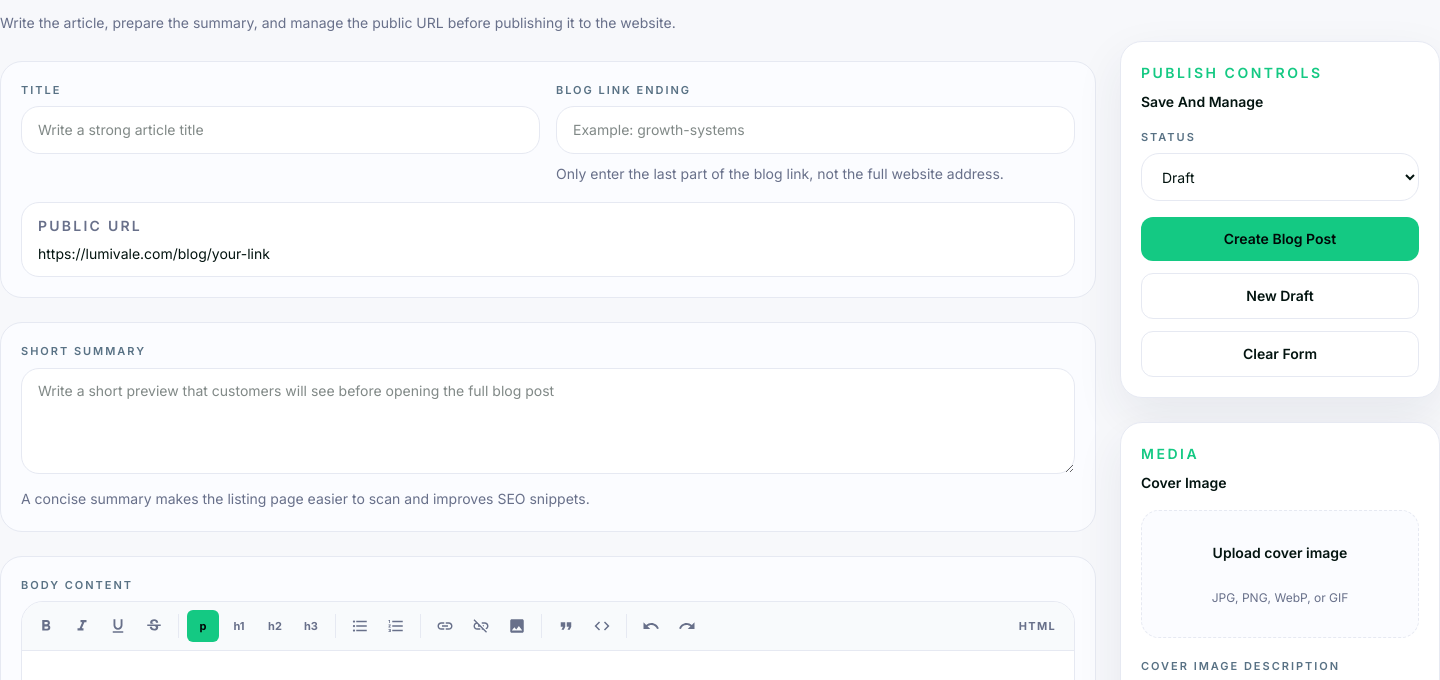
Scenario: admin blog editor › preview uses explicit rich content styling for formatted body HTML
Click the button "HTML" at x=1037, y=626, box [1009,610,1066,642]
(page scrolled)
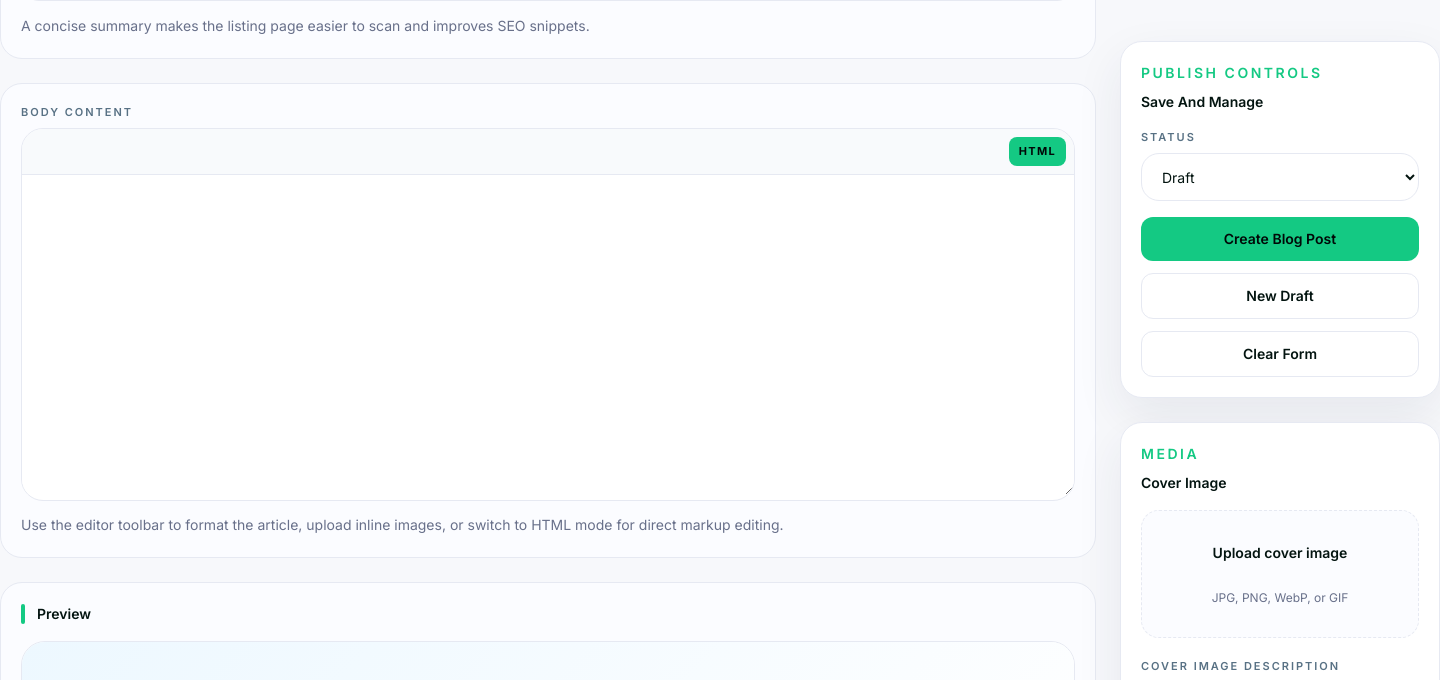
Type "<h1>Preview heading</h1><ul><li><p>Preview bullet</p></li></ul><blockquote><p>Preview quote</p></blockquote>" into the text box named "HTML editor" at x=548, y=335, box [22,175,1074,495]
(page scrolled)
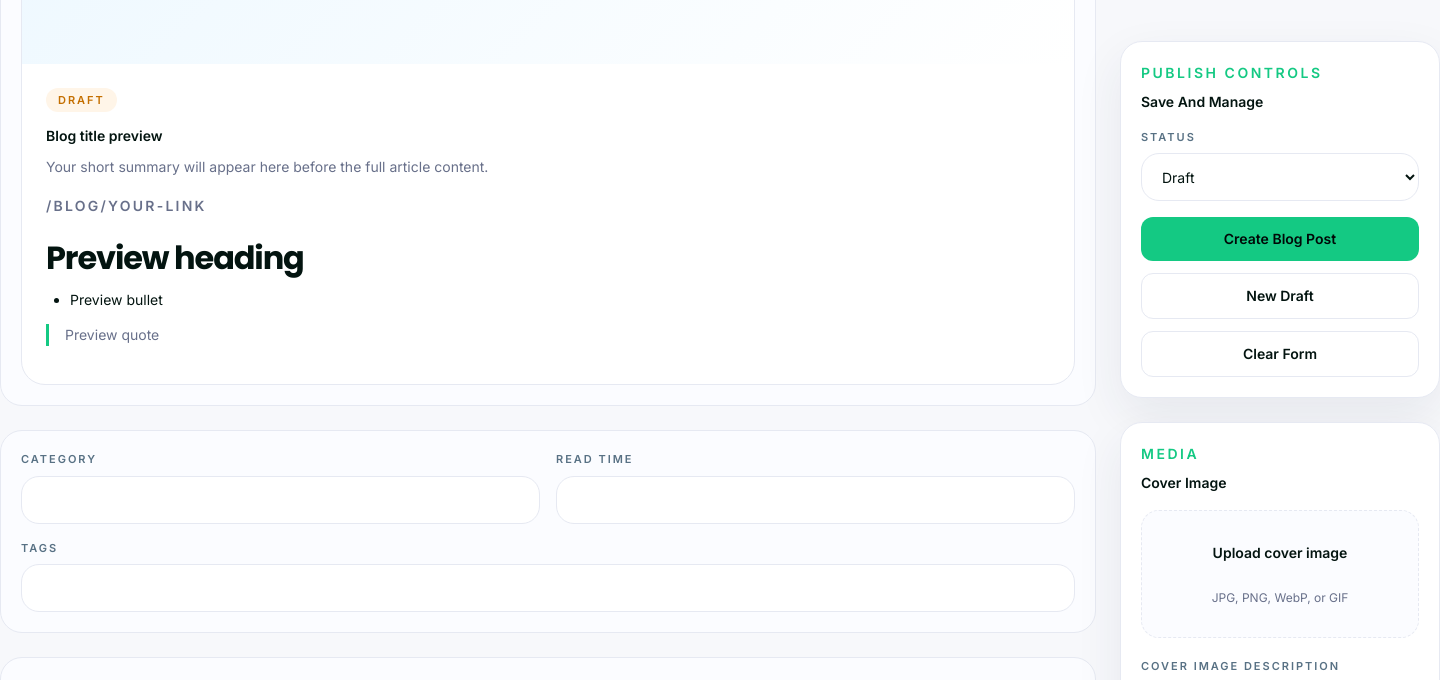
Expected: the element with class "lumivale-blog-preview-content" is shown, [46,240,1050,346]
Expected: the heading "Preview heading" is shown, [46,236,304,280]
Expected: the list item "Preview bullet" is shown, [70,291,163,308]
